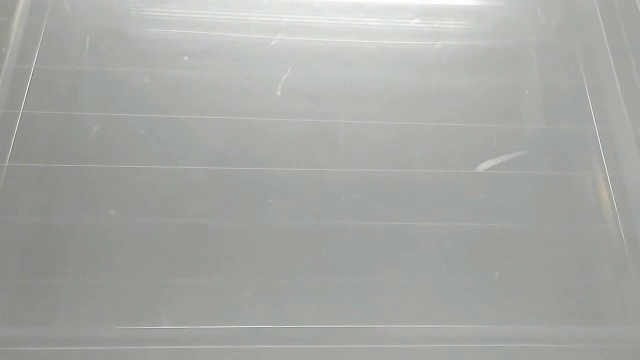alpha: (471, 147, 532, 176)
